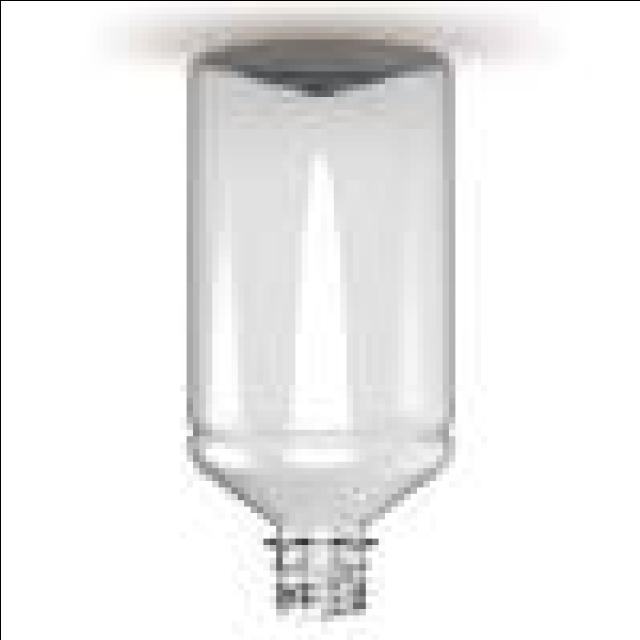bottom: (170, 28, 465, 114)
no_cap: (240, 511, 402, 625)
